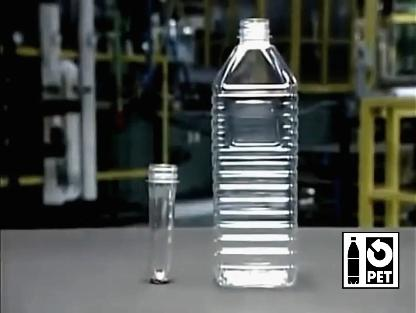Plastic Bottle: (212, 18, 300, 290)
